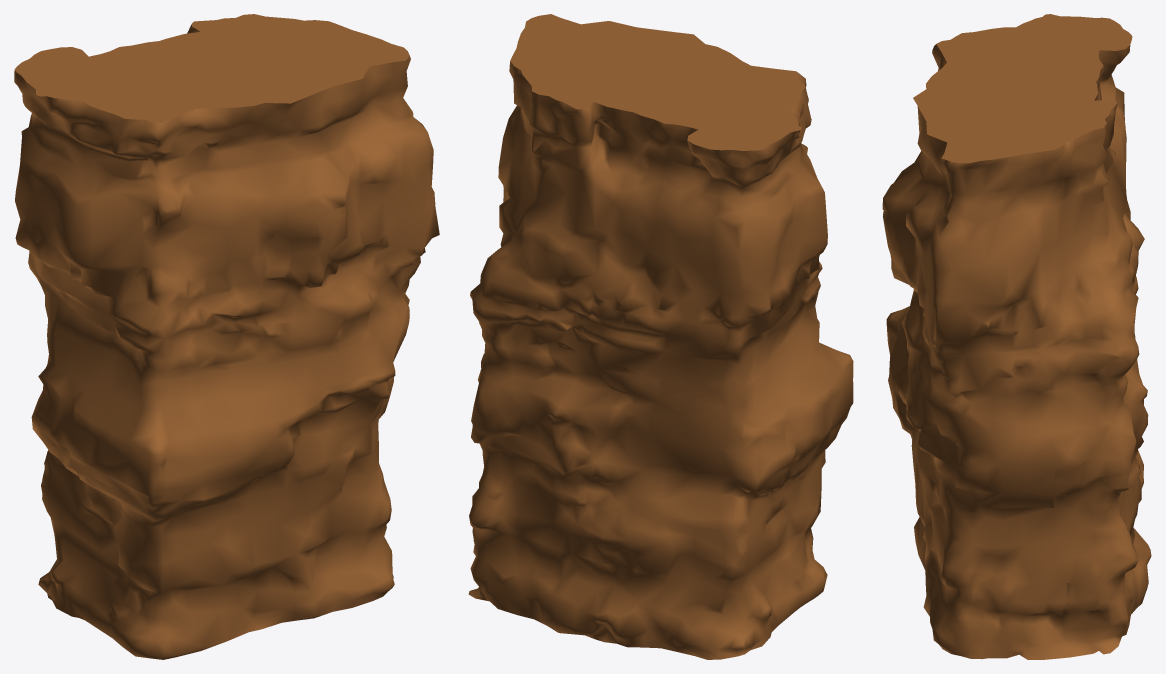
File: MSH_Rocks_Cliff_11_b.FBX
The picture shows the model from 3 angles, left to right: view 1: azimuth 30°, elevation 25°; view 2: azimuth 150°, elevation 25°; view 3: azimuth 270°, elevation 25°; orthographic projection. The views are drawn at different scales.
Visible parts, largest first — view 1: MESH_LOD0, CAP_LOD0; view 2: MESH_LOD0, CAP_LOD0; view 3: MESH_LOD0, CAP_LOD0.
Part boxes in pixels (left/top/right/bottom): MESH_LOD0: left=14, top=24, right=439, bottom=659; CAP_LOD0: left=14, top=14, right=408, bottom=122; MESH_LOD0: left=468, top=61, right=853, bottom=659; CAP_LOD0: left=510, top=14, right=805, bottom=150; MESH_LOD0: left=882, top=44, right=1151, bottom=659; CAP_LOD0: left=913, top=14, right=1132, bottom=163.
Size of what is drawn, in the model's own units: 456 by 673 by 327.
